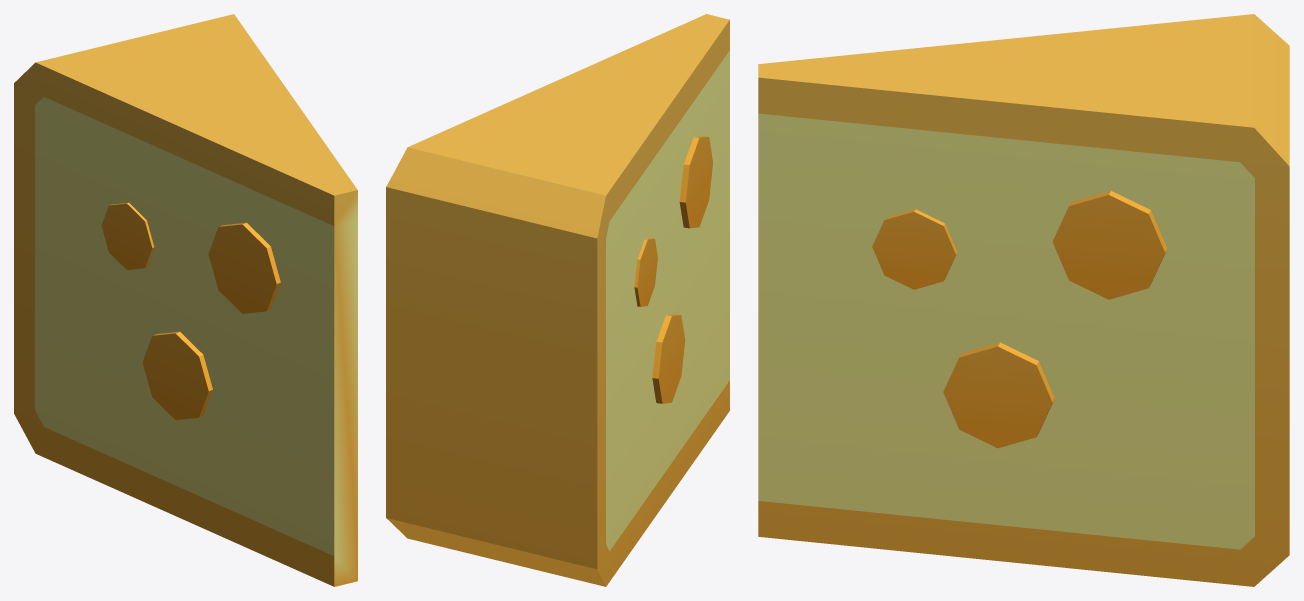
Rendered from piece-cheese.glb.
3 views of the same model, side by side, from view 1: azimuth 30°, elevation 25°; view 2: azimuth 150°, elevation 25°; view 3: azimuth 270°, elevation 25° (orthographic). The views are drawn at different scales.
Parts seen in each view (by area): view 1: piece cheese; view 2: piece cheese; view 3: piece cheese.
Boxes of the visible parts, x1,y1,x2,y2 form: piece cheese: [14, 14, 357, 586]; piece cheese: [386, 14, 729, 586]; piece cheese: [758, 14, 1289, 586].
Size of the model in its own units: 0.1211 by 0.2144 by 0.2249.
1 material, 1 textured.
